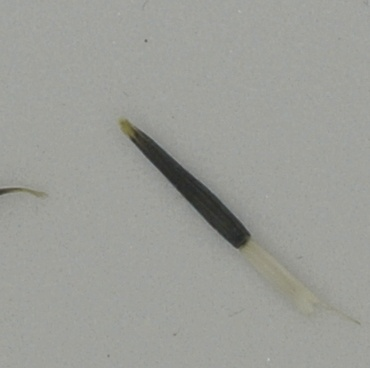เมล็ดดีเรียวยาว: (114, 119, 363, 327)
